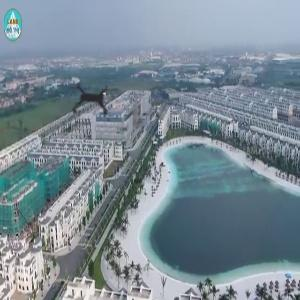drone: (46, 57, 140, 151)
